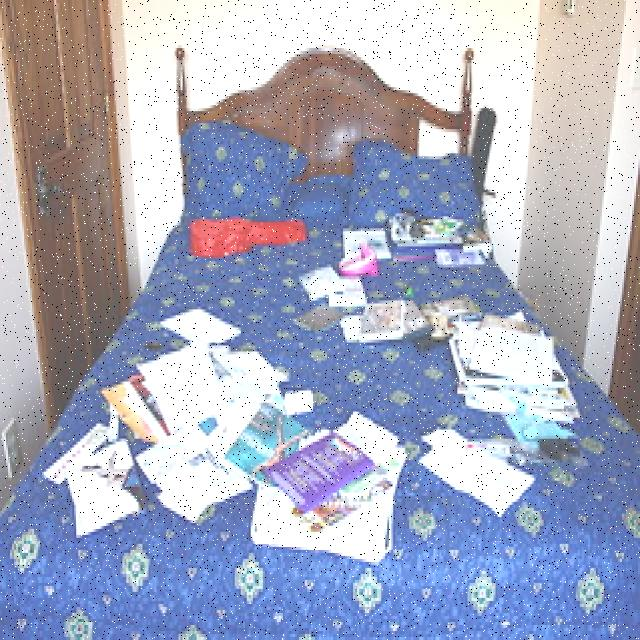bed: (16, 114, 636, 640)
